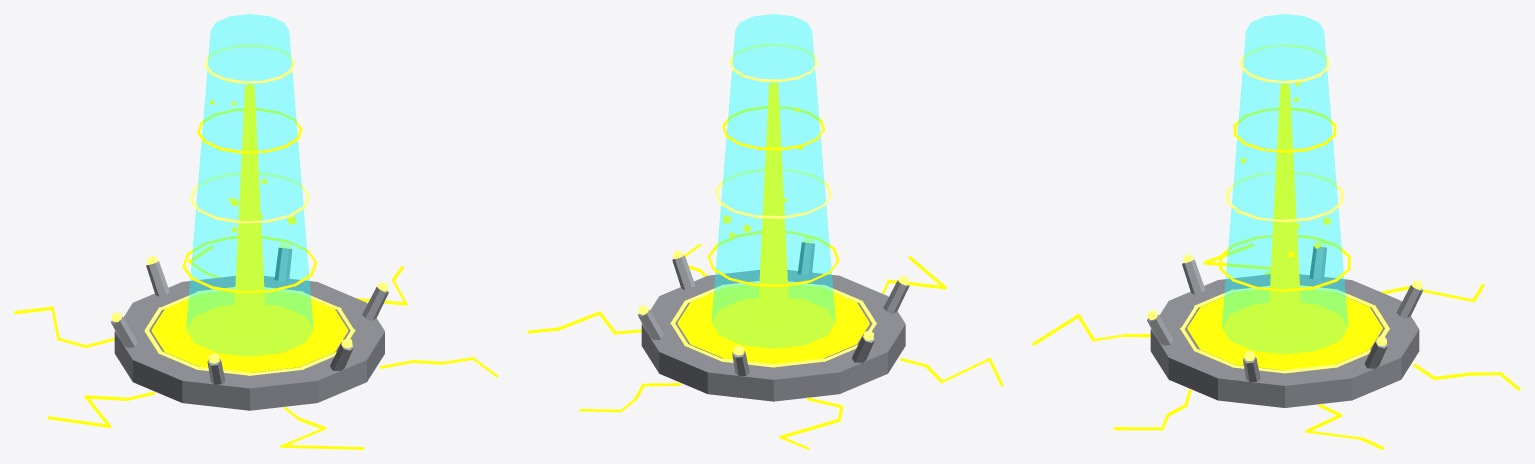
Rendered from Resource_EnergyWell.fbx.
3 views of the same model, side by side, from view 1: azimuth 30°, elevation 25°; view 2: azimuth 150°, elevation 25°; view 3: azimuth 270°, elevation 25° (orthographic). The views are drawn at different scales.
Visible parts, largest first — view 1: Well_Column, Well_Rim, Well_Pool, Well_ColumnCore, Well_RimGlow, Well_ColumnRing0, Well_ColumnRing1, Well_ColumnRing2, Well_ColumnRing3, Well_Crack3, Well_Crack4, Well_Pipe0 (+2 smaller); view 2: Well_Column, Well_Rim, Well_Pool, Well_ColumnCore, Well_RimGlow, Well_ColumnRing0, Well_ColumnRing1, Well_ColumnRing2, Well_ColumnRing3, Well_Crack2, Well_Crack0, Well_Pipe4 (+1 smaller); view 3: Well_Column, Well_Rim, Well_Pool, Well_ColumnCore, Well_RimGlow, Well_ColumnRing0, Well_ColumnRing1, Well_ColumnRing2, Well_ColumnRing3, Well_Crack4, Well_Crack0, Well_Pipe3 (+1 smaller).
Boxes of the visible parts, x1,y1,x2,y2 form: Well_Column: (186,14,313,355); Well_Rim: (114,276,384,410); Well_Pool: (151,290,348,372); Well_ColumnCore: (233,84,266,336); Well_RimGlow: (144,287,355,375); Well_ColumnRing0: (182,236,317,293); Well_ColumnRing1: (189,172,309,223); Well_ColumnRing2: (197,108,302,153); Well_ColumnRing3: (204,44,295,83); Well_Crack3: (47,391,155,427); Well_Crack4: (280,406,364,449); Well_Pipe0: (274,247,292,281); Well_Column: (711,14,835,348); Well_Rim: (641,270,905,401); Well_Pool: (677,284,869,364); Well_ColumnCore: (757,82,789,329); Well_RimGlow: (670,281,876,367); Well_ColumnRing0: (707,230,839,287); Well_ColumnRing1: (715,168,832,218); Well_ColumnRing2: (722,106,825,150); Well_ColumnRing3: (729,43,817,82); Well_Crack2: (779,397,842,449); Well_Crack0: (527,311,641,334); Well_Pipe4: (797,242,814,275); Well_Column: (1222,14,1347,353); Well_Rim: (1150,274,1419,407); Well_Pool: (1187,289,1382,370); Well_ColumnCore: (1268,84,1301,334); Well_RimGlow: (1180,285,1389,373); Well_ColumnRing0: (1219,235,1350,292); Well_ColumnRing1: (1226,171,1343,222); Well_ColumnRing2: (1233,107,1336,152); Well_ColumnRing3: (1240,43,1329,83); Well_Crack4: (1032,314,1150,345); Well_Crack0: (1305,403,1383,449); Well_Pipe3: (1182,259,1205,294).
Size of the model in its own units: 1.98 by 1.45 by 2.
